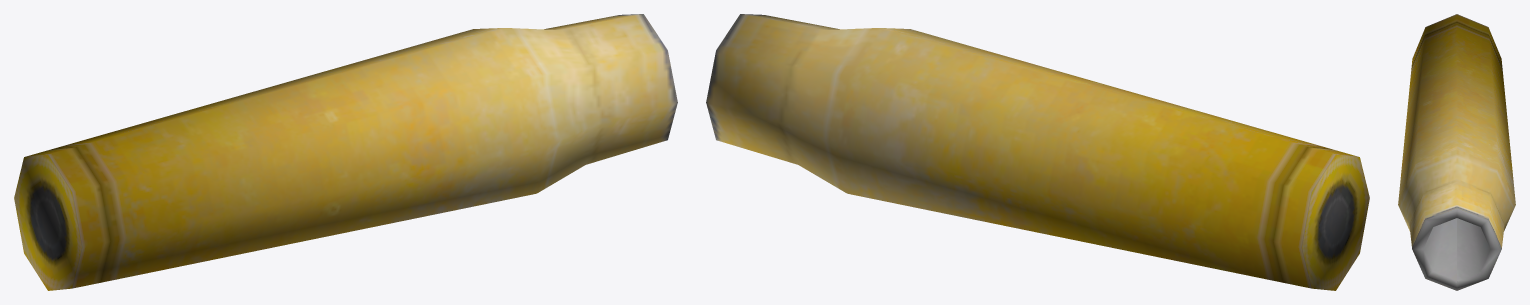
File: heavy.glb
3 renders of one model, left to right at view 1: azimuth 30°, elevation 25°; view 2: azimuth 150°, elevation 25°; view 3: azimuth 270°, elevation 25°, orthographic. The views are drawn at different scales.
Visible parts, largest first — view 1: S_LargeAmmo; view 2: S_LargeAmmo; view 3: S_LargeAmmo.
Boxes of the visible parts, x1=… form: S_LargeAmmo: x1=14, y1=14, x2=677, y2=290; S_LargeAmmo: x1=706, y1=14, x2=1369, y2=290; S_LargeAmmo: x1=1398, y1=14, x2=1515, y2=290.
Bounding box in the file's own units: 0.0962 × 0.0258 × 0.0251.
Materials: 1 (1 with a texture image).
